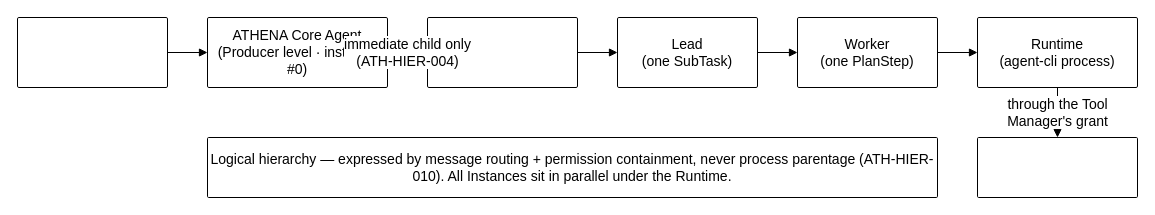
Image size: 1155x215. Some labels were removed from this diagram. Here are the shapes that lost their labels. From the top down, the centre of each, then its label:
point (92, 52): Human (natural language)
point (502, 52): Director (a SubTask group)
point (1057, 167): Tool / External System
